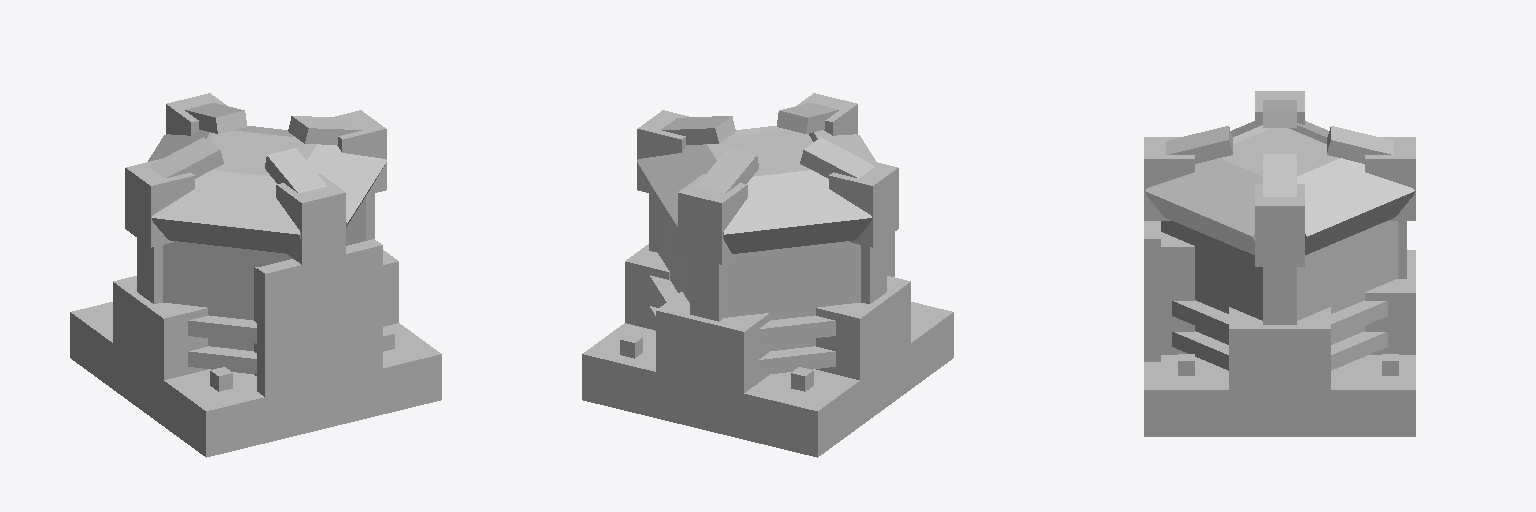
Rendered from gyro.obj.
The picture shows the model from 3 angles: view 1: azimuth 30°, elevation 25°; view 2: azimuth 150°, elevation 25°; view 3: azimuth 270°, elevation 25°; orthographic projection.
Visible parts, largest first — view 1: cube; view 2: cube; view 3: cube.
Boxes of the visible parts, <box> form: cube: <box>70,93,441,457</box>; cube: <box>582,93,953,457</box>; cube: <box>1144,91,1415,436</box>.
Size of the model in its own units: 1 by 1 by 1.